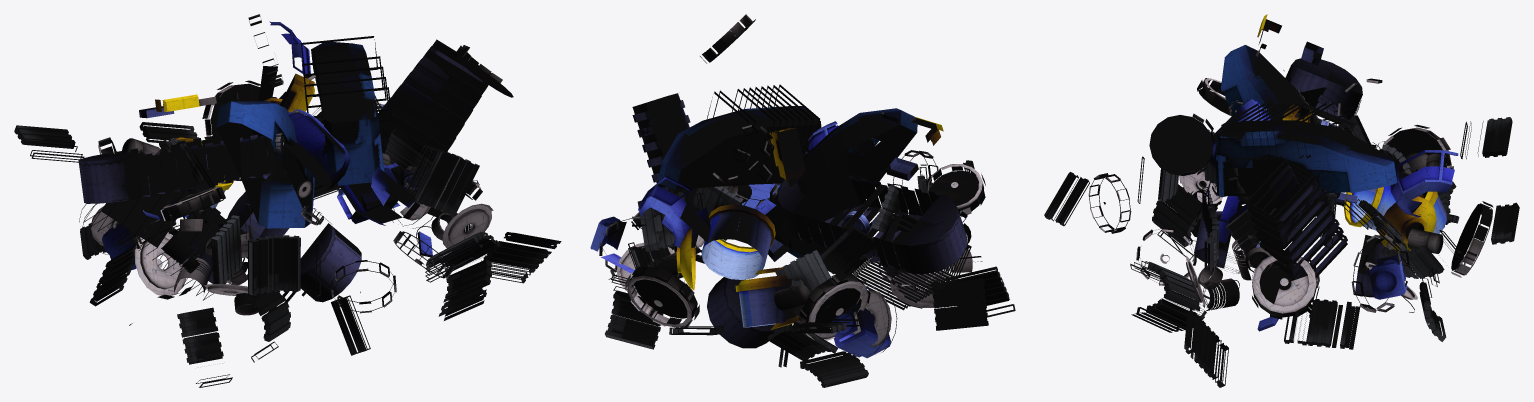
The model's file is PlayerB_die19.obj.
The picture shows the model from 3 angles, left to right: view 1: azimuth 30°, elevation 25°; view 2: azimuth 150°, elevation 25°; view 3: azimuth 270°, elevation 25°; orthographic projection. The views are drawn at different scales.
Visible parts, largest first — view 1: Object005; view 2: Object005; view 3: Object005.
Part boxes in pixels (<box>): Object005: <box>14,14,561,387</box>; Object005: <box>590,14,1015,387</box>; Object005: <box>1044,14,1519,387</box>.
Bounding box in the file's own units: 277 × 191 × 300.
2 materials, 2 textured.
